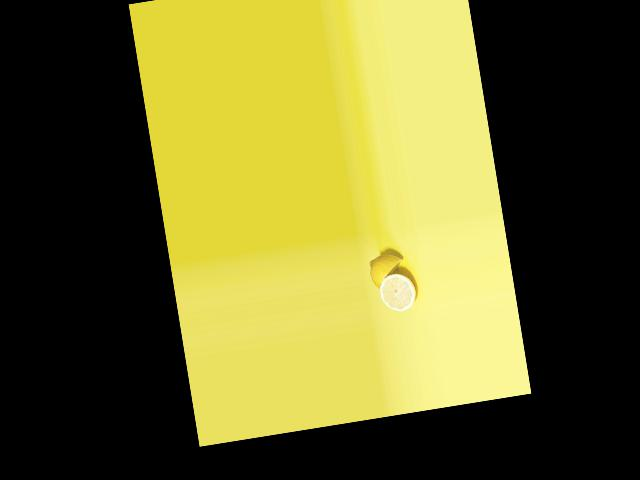lemon: (366, 249, 410, 290)
